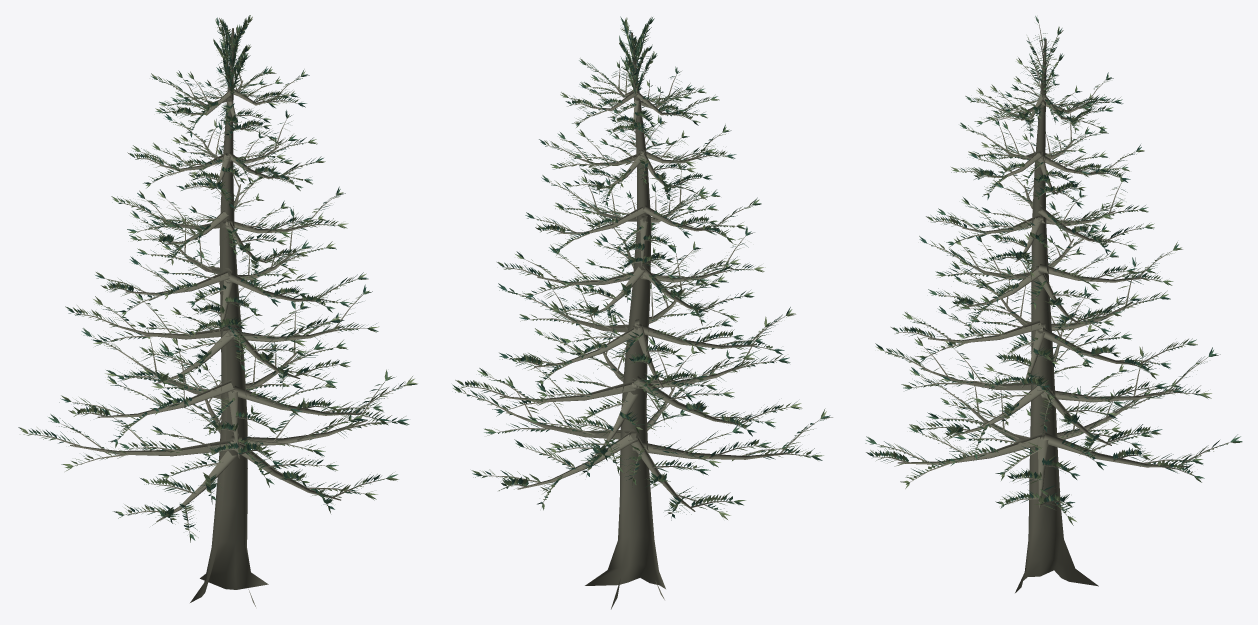
The picture shows the model from 3 angles, left to right: view 1: azimuth 30°, elevation 25°; view 2: azimuth 150°, elevation 25°; view 3: azimuth 270°, elevation 25°; orthographic projection. The views are drawn at different scales.
Visible parts, largest first — view 1: leaves, branches; view 2: branches, leaves; view 3: branches, leaves.
Part boxes in pixels (x1,y1,x2,y2): leaves: (18, 15, 417, 542); branches: (29, 25, 405, 606); branches: (462, 32, 819, 609); leaves: (452, 16, 832, 520); branches: (875, 24, 1229, 592); leaves: (865, 16, 1242, 525).
Bounding box in the file's own units: 6.03 × 9.81 × 5.96.
